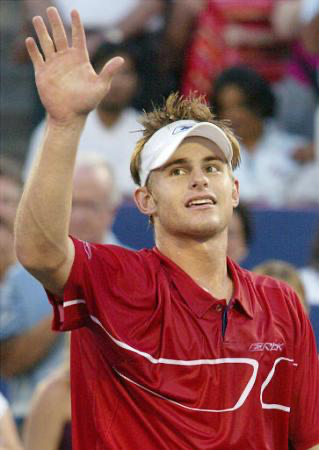Face: (146, 150, 233, 236)
